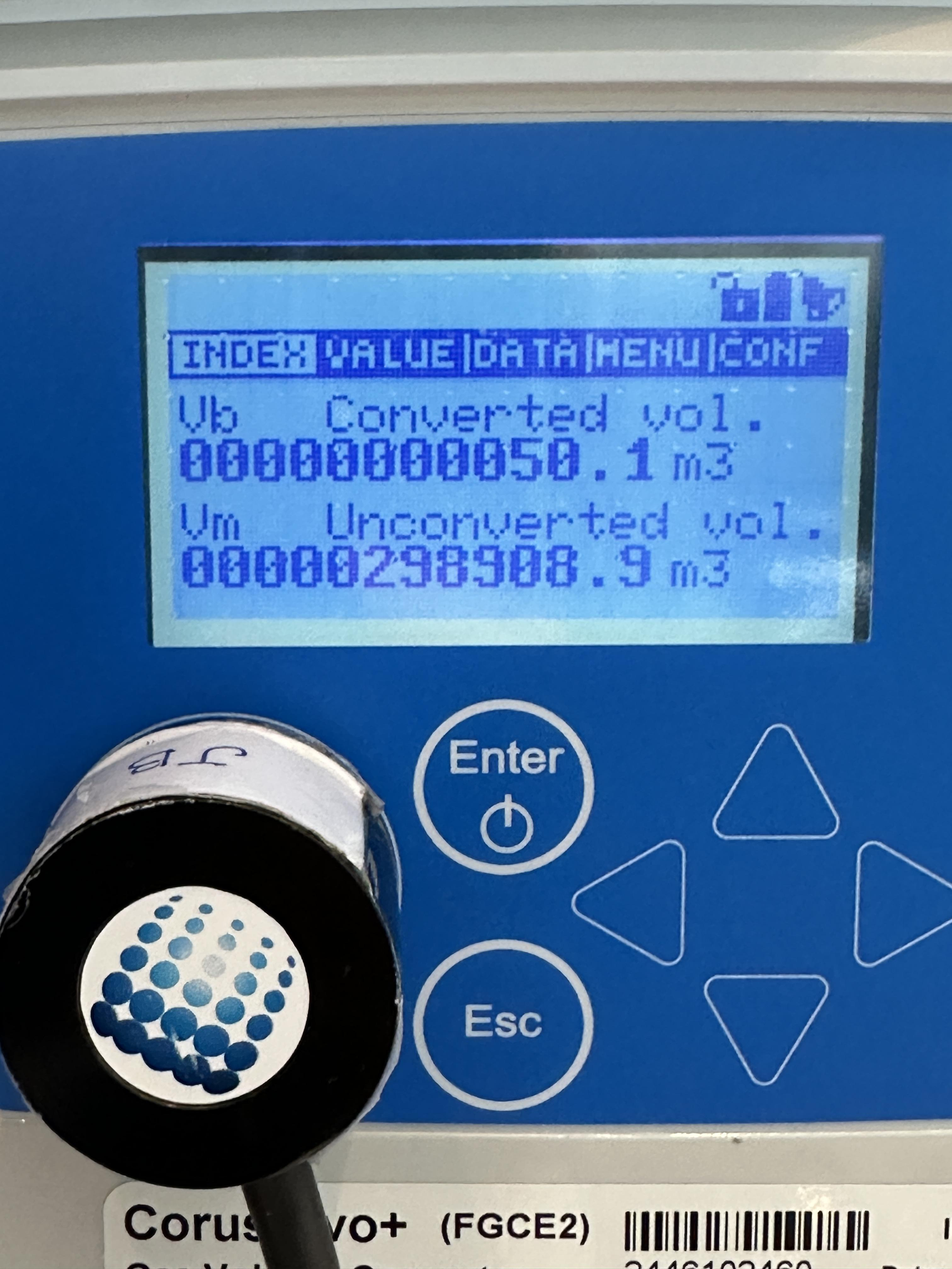digital_screen: (147, 257, 871, 647)
